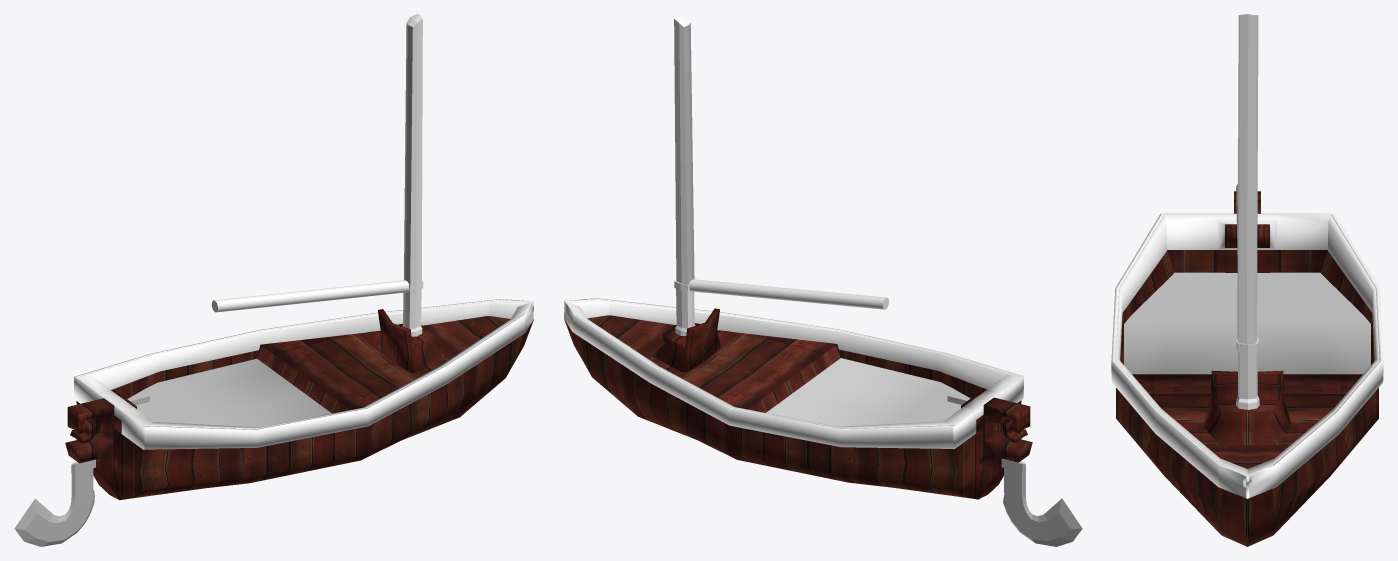
Rendered from boat.obj.
The picture shows the model from 3 angles, left to right: view 1: azimuth 30°, elevation 25°; view 2: azimuth 150°, elevation 25°; view 3: azimuth 270°, elevation 25°; orthographic projection. The views are drawn at different scales.
Parts seen in each view (by area): view 1: Kadlub, Maszt_Cube.002, Ster_Cube.001, bom; view 2: Kadlub, Maszt_Cube.002, Ster_Cube.001, bom; view 3: Kadlub, Maszt_Cube.002.
Part boxes in pixels (x1=…): Kadlub: x1=65, y1=299, x2=534, y2=500; Maszt_Cube.002: x1=402, y1=14, x2=423, y2=336; Ster_Cube.001: x1=14, y1=394, x2=149, y2=546; bom: x1=211, y1=280, x2=409, y2=312; Kadlub: x1=563, y1=298, x2=1032, y2=499; Maszt_Cube.002: x1=674, y1=14, x2=695, y2=335; Ster_Cube.001: x1=947, y1=394, x2=1082, y2=546; bom: x1=688, y1=279, x2=888, y2=309; Kadlub: x1=1111, y1=191, x2=1383, y2=546; Maszt_Cube.002: x1=1236, y1=14, x2=1259, y2=409.
Bounding box in the file's own units: 5.12 × 4.15 × 1.85.
